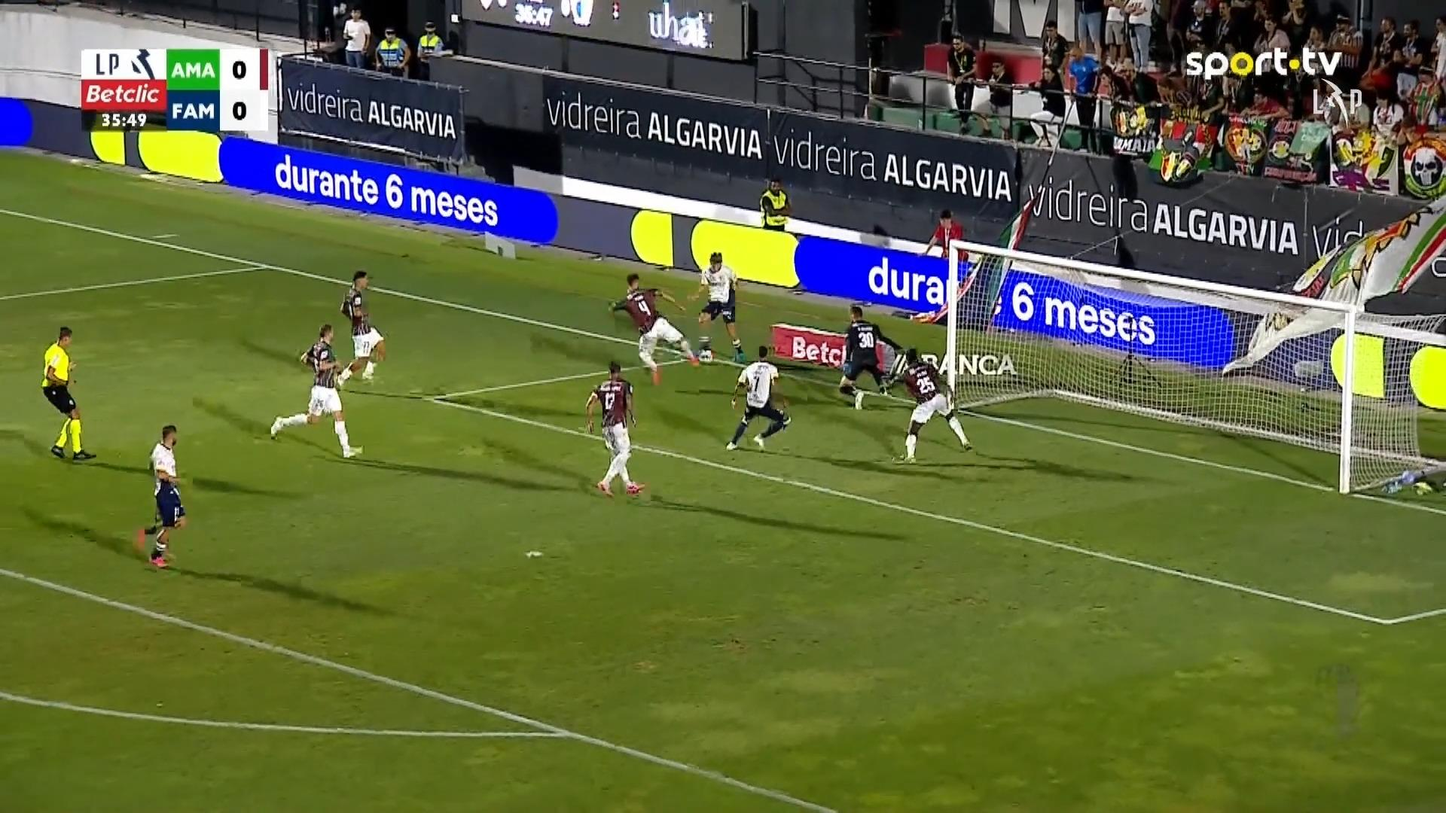ball: (698, 349, 712, 361)
goalkeeper: (837, 304, 894, 410), (696, 335, 713, 362)
player: (268, 322, 364, 459), (879, 346, 974, 464), (608, 272, 701, 385), (584, 360, 645, 498), (135, 424, 187, 568), (725, 344, 792, 451), (686, 251, 744, 363), (334, 269, 386, 389)
referee: (40, 325, 96, 461)
